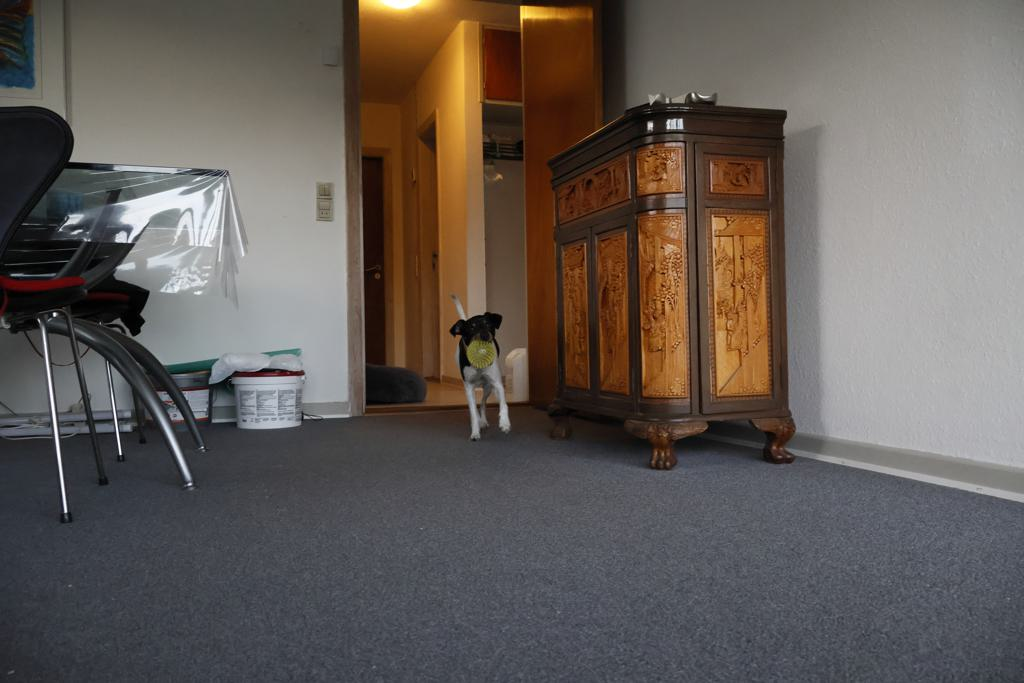Dog: (442, 287, 519, 445)
